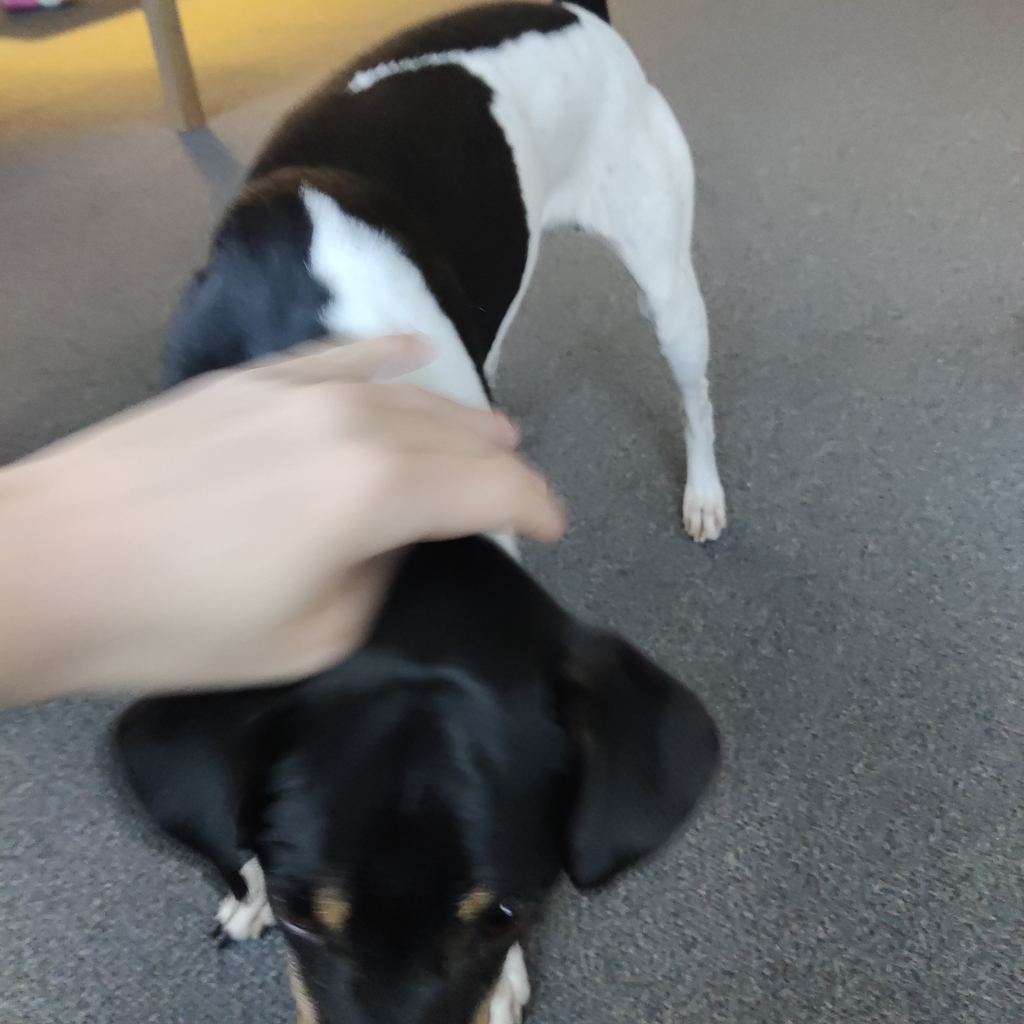Dog: (70, 0, 784, 1024)
Humanoid: (0, 303, 607, 772)
